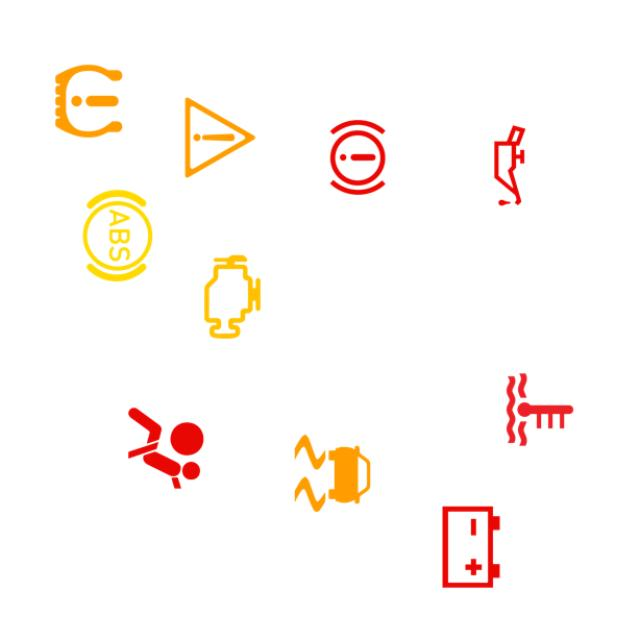Anti Lock Braking System: (68, 186, 168, 286)
Braking System Issue: (308, 108, 408, 208)
Charging System Issue: (421, 497, 521, 597)
Check Engine: (182, 247, 282, 347)
Electronic Stability Problem -ESP-: (282, 423, 382, 523)
Engine Overheating Warning Light: (490, 360, 590, 460)
Low Engine Oil Warning Light: (460, 116, 560, 216)
Low Tire Pressure Warning Light: (38, 51, 138, 151)
Master warning light: (170, 88, 270, 188)
SRS-Airbag: (116, 398, 216, 498)
